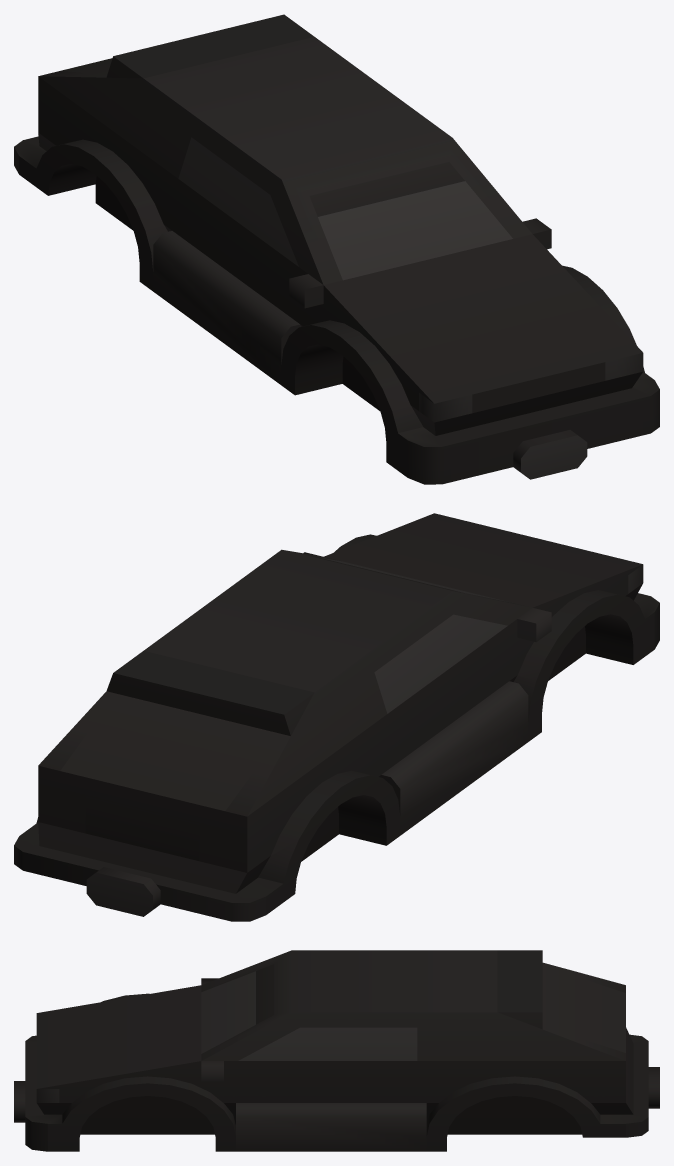
The model's file is hatchback_sports_burnt.glb.
3 renders of one model, top to bottom at view 1: azimuth 30°, elevation 25°; view 2: azimuth 150°, elevation 25°; view 3: azimuth 270°, elevation 25°, orthographic. The views are drawn at different scales.
Parts seen in each view (by area): view 1: body; view 2: body; view 3: body.
Boxes of the visible parts, x1,y1,x2,y2 form: body: (14, 14, 659, 484); body: (14, 513, 659, 921); body: (14, 950, 659, 1151).
Bounding box in the file's own units: 1.65 × 1.14 × 5.02.
1 material, 1 textured.
